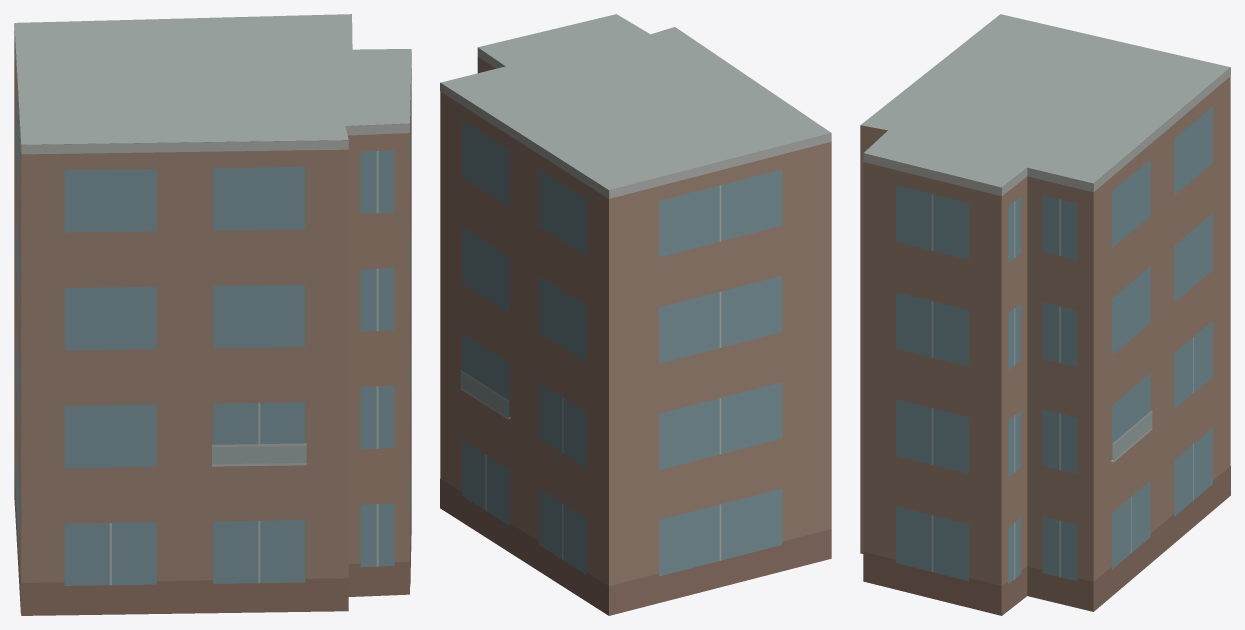
Rendered from survey-upis-32727890.glb.
3 views of the same model, side by side, from view 1: azimuth 30°, elevation 25°; view 2: azimuth 150°, elevation 25°; view 3: azimuth 270°, elevation 25° (orthographic). The views are drawn at different scales.
Visible parts, largest first — view 1: survey-upis-32727890.tmp; view 2: survey-upis-32727890.tmp; view 3: survey-upis-32727890.tmp.
Part boxes in pixels (box(x1,y1,x2,y2)): survey-upis-32727890.tmp: box(14, 14, 411, 615); survey-upis-32727890.tmp: box(440, 14, 831, 615); survey-upis-32727890.tmp: box(860, 14, 1230, 615).
Size of the model in its own units: 10.35 by 11.9 by 9.33.
